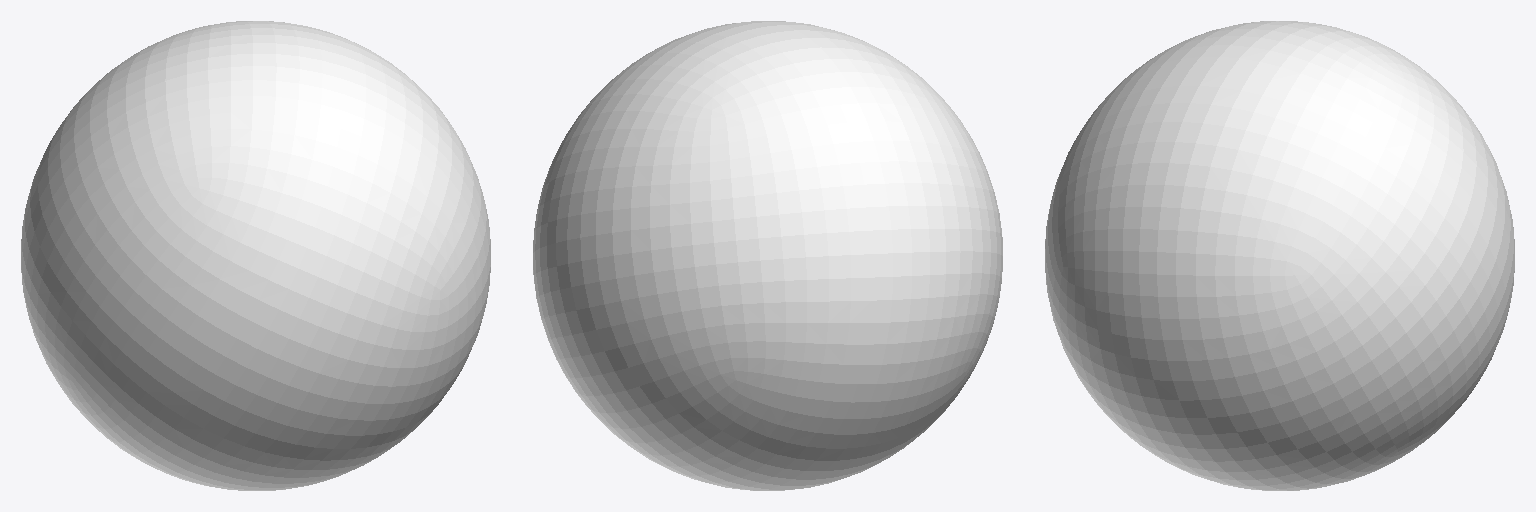
Rendered from Moon-2K-smooth.obj.
3 views of the same model, side by side, from view 1: azimuth 30°, elevation 25°; view 2: azimuth 150°, elevation 25°; view 3: azimuth 270°, elevation 25° (orthographic).
Visible parts, largest first — view 1: Moon_Cube.002; view 2: Moon_Cube.002; view 3: Moon_Cube.002.
Boxes of the visible parts, box(x1,y1,x2,y2) form: Moon_Cube.002: box(21, 21, 490, 490); Moon_Cube.002: box(533, 21, 1002, 490); Moon_Cube.002: box(1045, 21, 1514, 490).
Bounding box in the file's own units: 5.87 × 5.87 × 5.87.